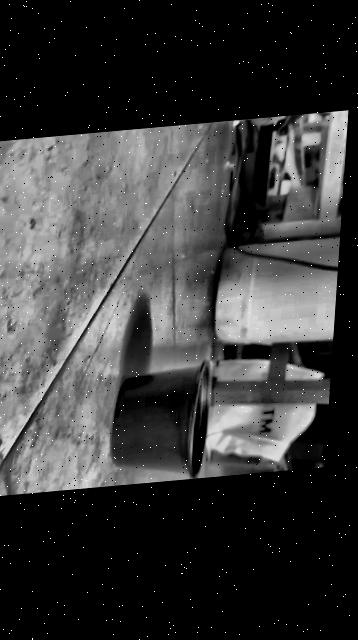pot: (110, 359, 214, 486)
